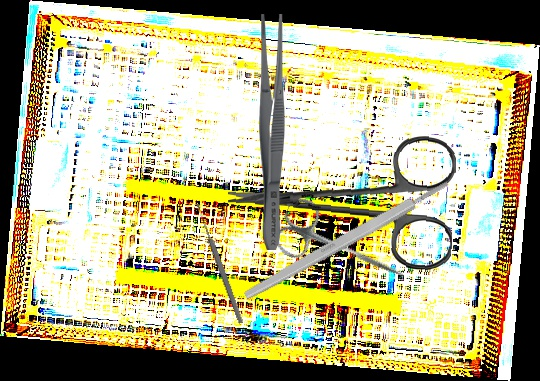Dressing Forceps: (256, 14, 287, 250)
Iris Scissors: (224, 125, 458, 272), (270, 193, 417, 301)
Scalpel Handle: (242, 177, 451, 303)
Surgical Spoon: (194, 202, 245, 325)
